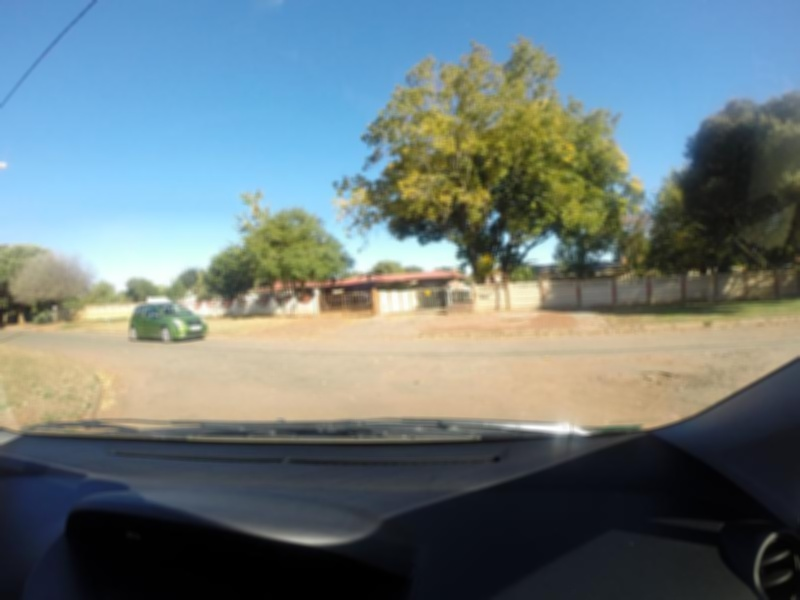pothole: (617, 352, 709, 401)
